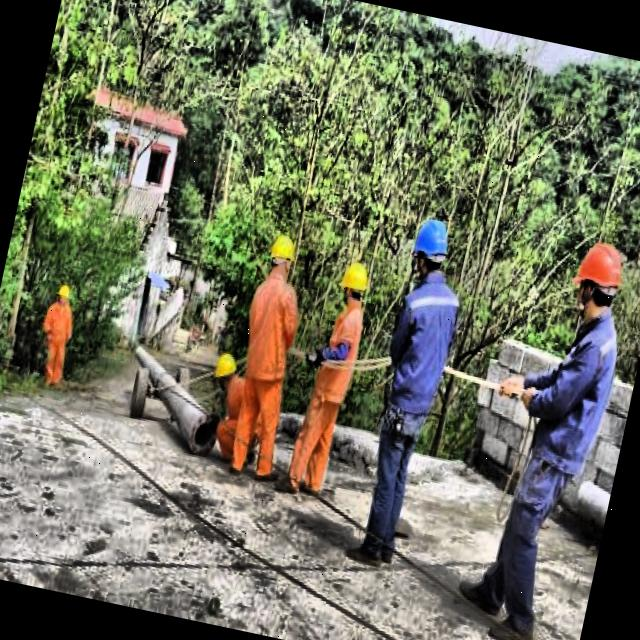helmet: (564, 234, 632, 328), (404, 212, 454, 282), (262, 229, 302, 286), (334, 256, 372, 307), (210, 344, 240, 395), (51, 278, 73, 310)
